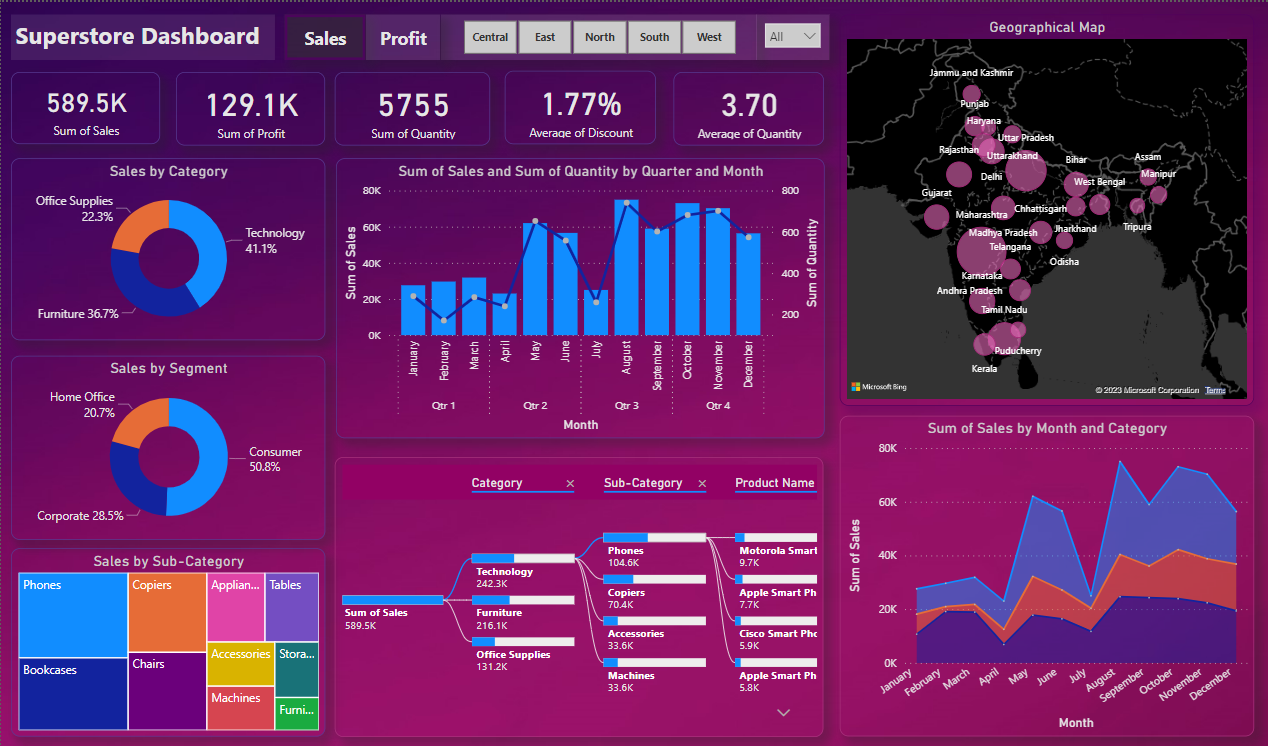

The page's visual inventory and layout, read from the dashboard file:
{"tool":"powerbi","page":{"name":"Sales","canvas":[1450,850],"ordinal":0},"visuals":[{"type":"donutChart","title":"Sales by Segment","fields":{"Category":["Orders.Segment"],"Y":["Sum(Orders.Sales)"]},"box":[11.5,404.1,359.3,210.7],"z":0},{"type":"treemap","title":"Sales by Sub-Category","fields":{"Group":["Orders.Sub-Category"],"Values":["Sum(Orders.Sales)"]},"box":[11.5,624.9,359.3,215],"z":1000},{"type":"map","title":"Geographical Map","fields":{"Category":["Orders.State"],"Size":["Sum(Orders.Sales)"]},"box":[958.2,14.4,473.3,447.4],"z":2000},{"type":"card","fields":{"Values":["Sum(Orders.Sales)"]},"box":[11.5,79.4,170.3,82.3],"z":3000},{"type":"card","fields":{"Values":["Sum(Orders.Profit)"]},"box":[200.6,79.4,170.3,83.7],"z":4000},{"type":"card","fields":{"Values":["Sum(Orders.Quantity)"]},"box":[381,79.4,177.5,83.7],"z":5000},{"type":"card","fields":{"Values":["Avg(Orders.Discount)"]},"box":[575.8,77.9,173.2,83.7],"z":6000},{"type":"textbox","box":[11.5,14.4,301.6,52],"z":7000},{"type":"slicer","fields":{"Values":["Zone.Zone"]},"box":[502.2,14.4,360.8,52],"z":8000},{"type":"decompositionTreeVisual","fields":{"ExplainBy":["Orders.Category","Orders.Sub-Category","Orders.Product Name"],"Analyze":["Sum(Orders.Sales)"]},"box":[381,519.5,558.5,320.4],"z":9000},{"type":"lineStackedColumnComboChart","fields":{"Category":["Orders.Order Date.Variation.Date Hierarchy.Quarter","Orders.Order Date.Variation.Date Hierarchy.Month"],"Y":["Sum(Orders.Sales)"],"Y2":["Sum(Orders.Quantity)"]},"box":[382.4,178.9,558.5,320.4],"z":10000},{"type":"actionButton","box":[324.7,14.4,92.4,52],"z":11000},{"type":"actionButton","box":[417.1,14.4,85.1,52],"z":12000},{"type":"donutChart","title":"Sales by Category","fields":{"Category":["Orders.Category"],"Y":["Sum(Orders.Sales)"]},"box":[11.5,178.9,359.3,207.8],"z":13000},{"type":"card","fields":{"Values":["Avg(Orders.Quantity)"]},"box":[769.2,79.4,171.7,83.7],"z":14000},{"type":"stackedAreaChart","fields":{"Category":["Orders.Order Date.Variation.Date Hierarchy.Month"],"Y":["Sum(Orders.Sales)"],"Series":["Orders.Category"]},"box":[958.2,473.3,473.3,366.6],"z":15000},{"type":"slicer","fields":{"Values":["Orders.State"]},"box":[863,14.4,83.7,52],"z":16000}]}

Visuals, with their boxes in screenshot pixels (x1, y1, x2, y2), scaled from the page's 1450x850 canvas onto the 1268x746 screenshot:
"Sales by Segment" donutChart: BBox(10, 355, 324, 540)
"Sales by Sub-Category" treemap: BBox(10, 548, 324, 737)
"Geographical Map" map: BBox(838, 13, 1252, 405)
card - Sum(Orders.Sales): BBox(10, 70, 159, 142)
card - Sum(Orders.Profit): BBox(175, 70, 324, 143)
card - Sum(Orders.Quantity): BBox(333, 70, 488, 143)
card - Avg(Orders.Discount): BBox(504, 68, 655, 142)
textbox: BBox(10, 13, 274, 58)
slicer - Zone.Zone: BBox(439, 13, 755, 58)
decompositionTreeVisual - Orders.Category x Orders.Sub-Category: BBox(333, 456, 822, 737)
lineStackedColumnComboChart - Orders.Order Date.Variation.Date Hierarchy.Quarter x Orders.Order Date.Variation.Date Hierarchy.Month: BBox(334, 157, 823, 438)
actionButton: BBox(284, 13, 365, 58)
actionButton: BBox(365, 13, 439, 58)
"Sales by Category" donutChart: BBox(10, 157, 324, 339)
card - Avg(Orders.Quantity): BBox(673, 70, 823, 143)
stackedAreaChart - Orders.Order Date.Variation.Date Hierarchy.Month x Sum(Orders.Sales): BBox(838, 415, 1252, 737)
slicer - Orders.State: BBox(755, 13, 828, 58)
